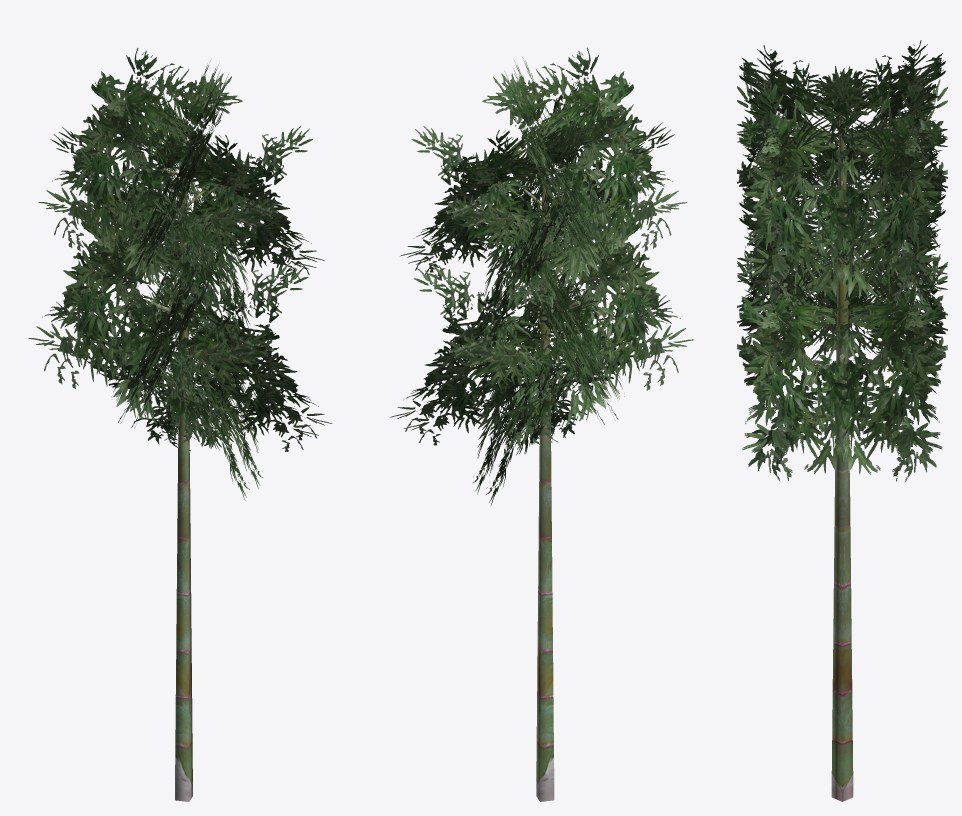
Rendered from arbree.fbx.
3 views of the same model, side by side, from view 1: azimuth 30°, elevation 25°; view 2: azimuth 150°, elevation 25°; view 3: azimuth 270°, elevation 25° (orthographic). The views are drawn at different scales.
Visible parts, largest first — view 1: Sans_titre; view 2: Sans_titre; view 3: Sans_titre.
Part boxes in pixels (x1,y1,x2,y2): Sans_titre: [28, 48, 332, 801]; Sans_titre: [390, 47, 693, 801]; Sans_titre: [737, 40, 947, 801].
Bounding box in the file's own units: 5.73 × 17.15 × 4.21.
Materials: 2 (2 with a texture image).
